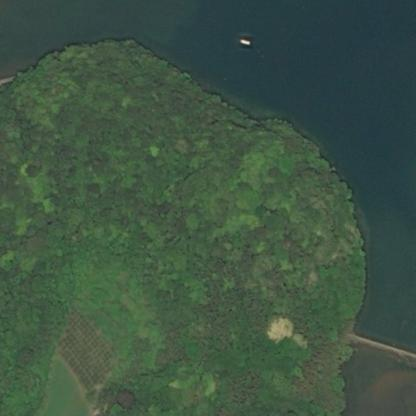ship: (233, 26, 258, 55)
